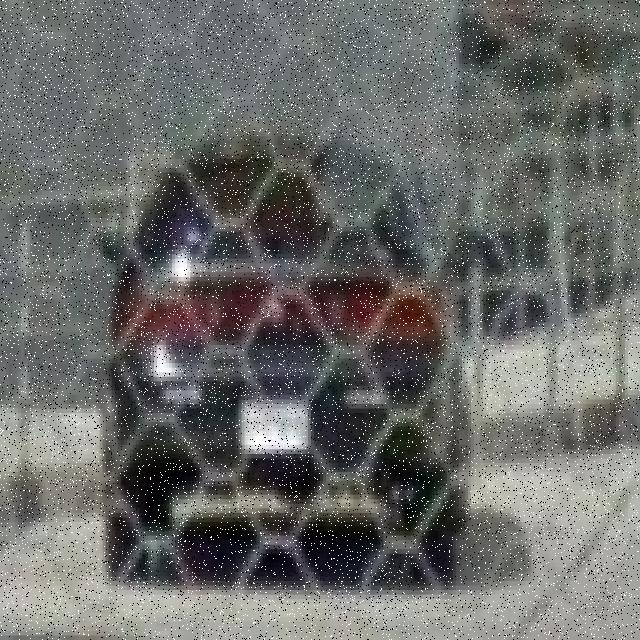cars: (102, 118, 465, 582)
